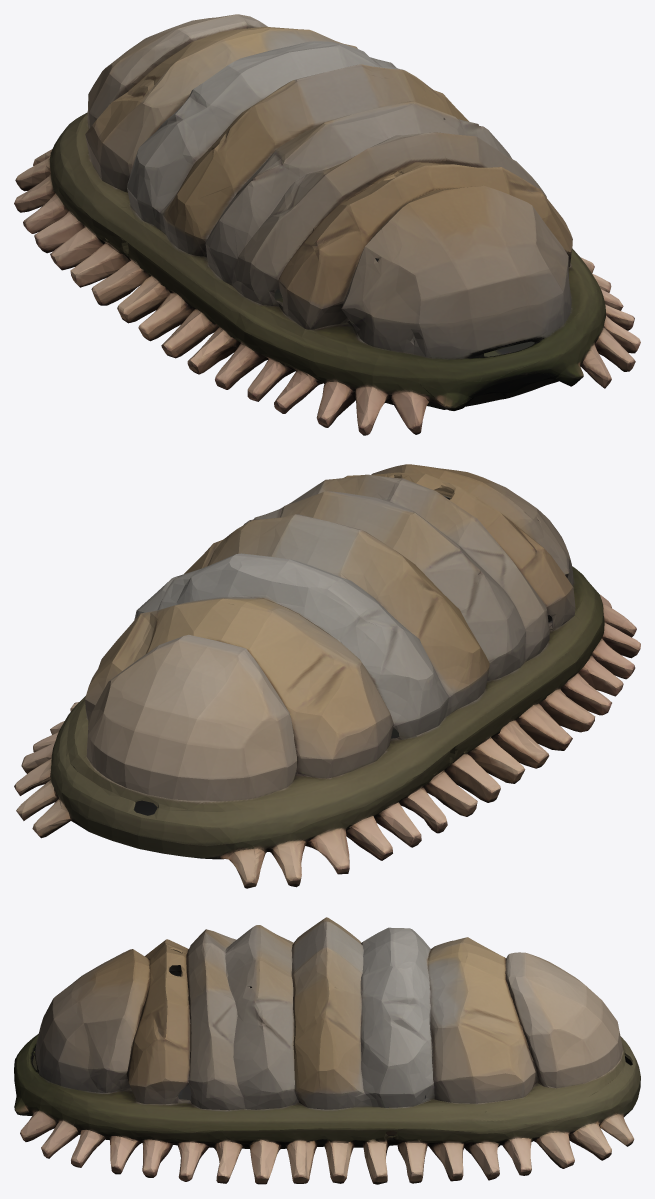
The picture shows the model from 3 angles, top to bottom: view 1: azimuth 30°, elevation 25°; view 2: azimuth 150°, elevation 25°; view 3: azimuth 270°, elevation 25°; orthographic projection. The views are drawn at different scales.
Visible parts, largest first — view 1: world; view 2: world; view 3: world.
Boxes of the visible parts, x1,y1,x2,y2 form: world: [14, 14, 640, 435]; world: [14, 464, 640, 888]; world: [14, 917, 640, 1184].
Bounding box in the file's own units: 0.6192 × 0.3042 × 0.999.
1 material, 1 textured.
